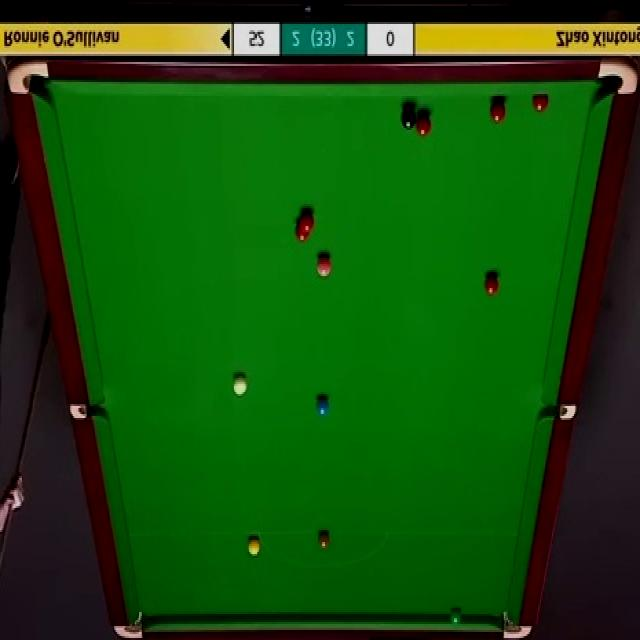pocket: (595, 57, 638, 97), (6, 60, 49, 97), (500, 608, 532, 640), (112, 611, 145, 638), (540, 403, 577, 422), (69, 404, 103, 422)
